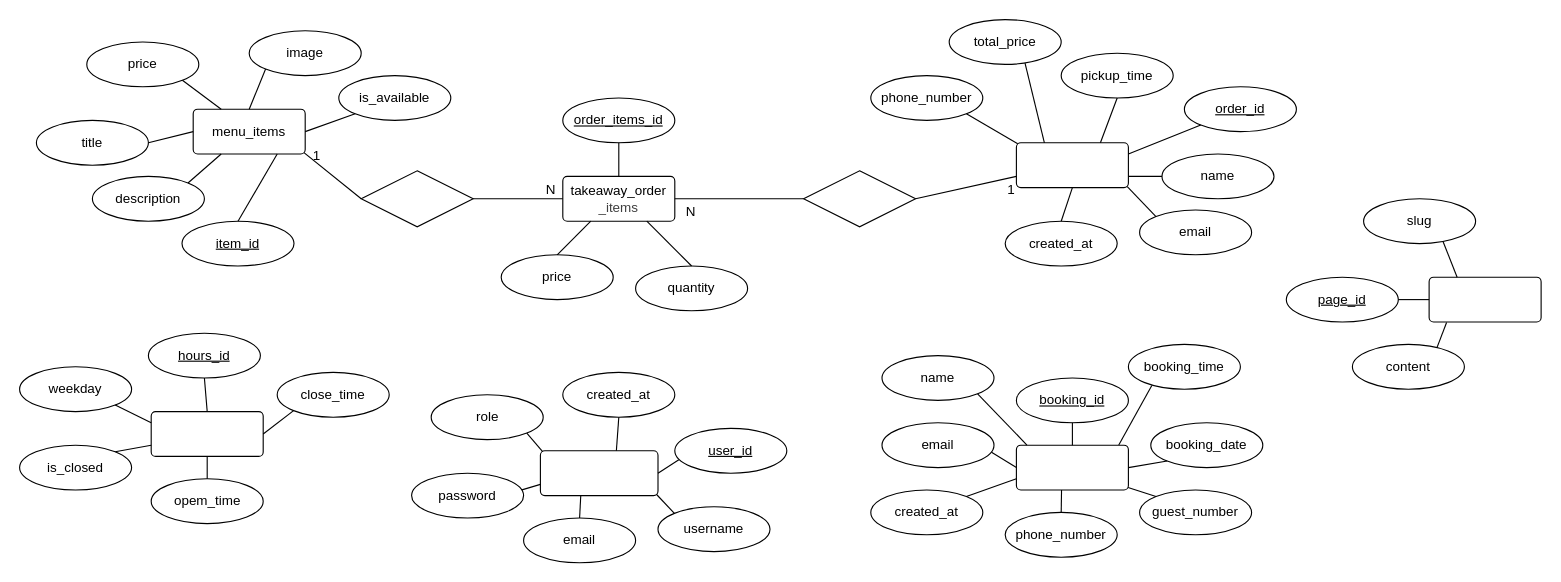
Some shapes in this 1561 by 582 pixel diagram are drawn without their labels. The box of each missing label's shape, as (x1, y1, x2, y2) in pixels:
contains: (802, 170, 916, 227)
included_in: (360, 170, 473, 227)
opening_hours: (150, 410, 263, 456)
pages: (1428, 276, 1541, 322)
table_bookings: (1015, 444, 1128, 490)
takeaway_orders: (1015, 142, 1128, 188)
users: (539, 450, 658, 496)
